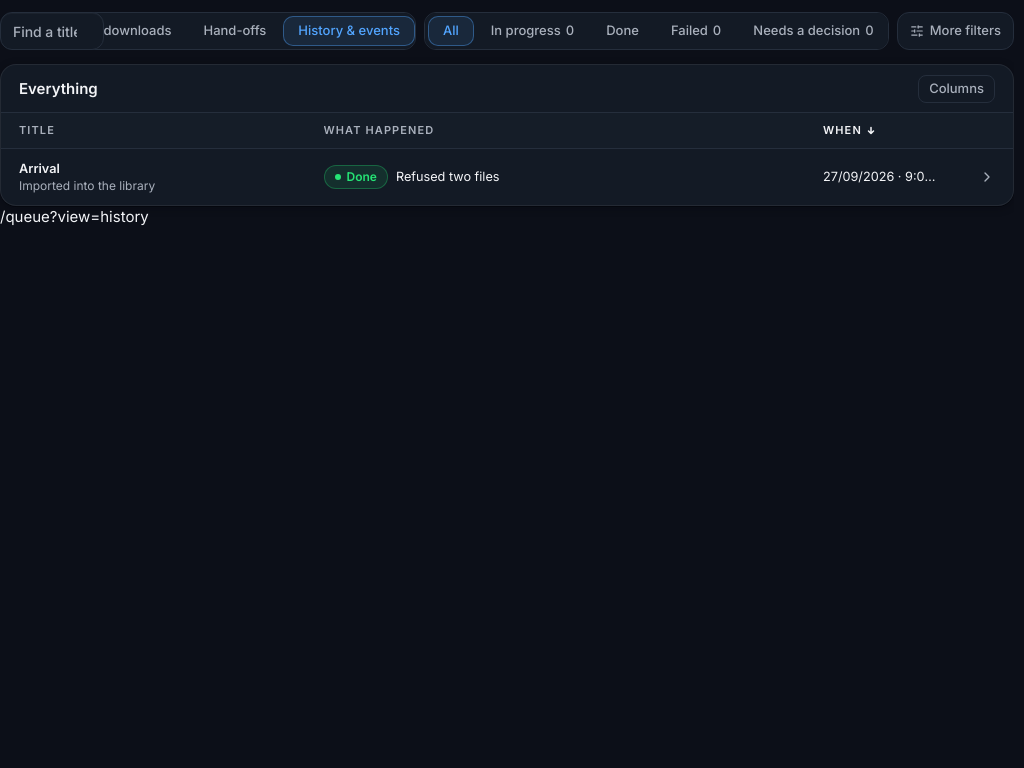
Activity's drawers and their failures (#1329) › an event's 'What it was about' lists the title, where it came from, the reason in words and each newline or semicolon separated file as a link to that file's hi
Click the text "Refused two files" at {"x": 448, "y": 177}, box 396,169 -> 500,185
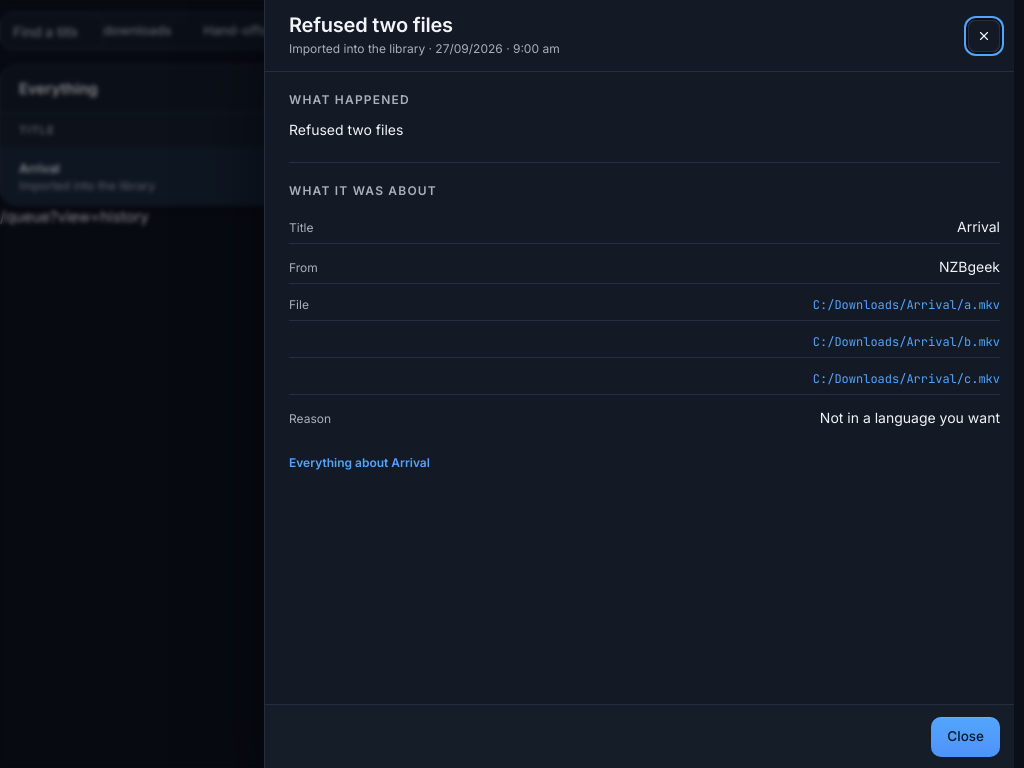
Expected: the text "What it was about" shows "Arrival", 957,218 -> 1000,235
Expected: the text "What it was about" shows "NZBgeek", 939,258 -> 1000,275
Expected: the text "What it was about" shows "Not in a language you want", 820,409 -> 1000,426
